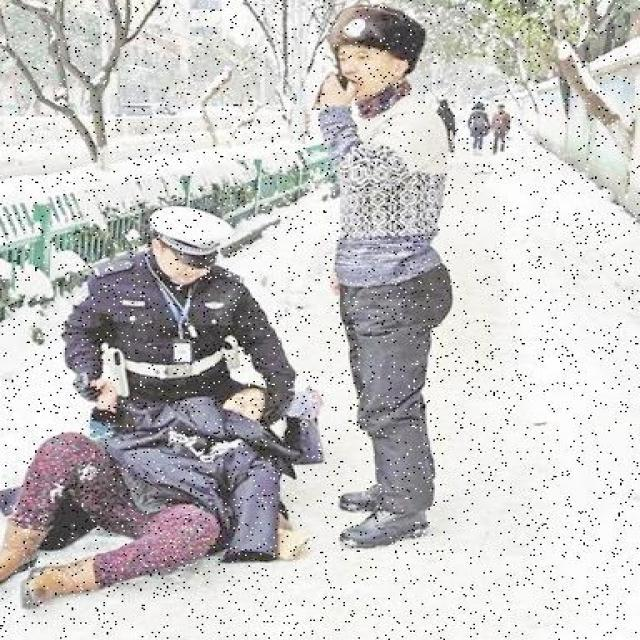fall: (1, 381, 322, 612)
